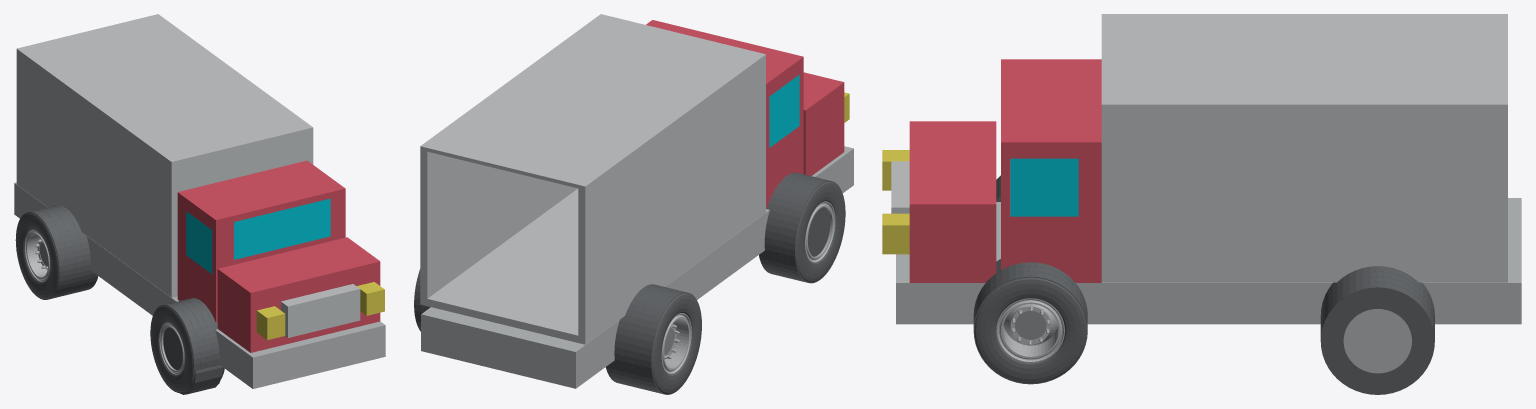
Rendered from Copy of Camion.glb.
3 renders of one model, left to right at view 1: azimuth 30°, elevation 25°; view 2: azimuth 150°, elevation 25°; view 3: azimuth 270°, elevation 25°, orthographic. The views are drawn at different scales.
Parts seen in each view (by area): view 1: Mesh_Mesh_head_geo.001_lambert2SG.001; view 2: Mesh_Mesh_head_geo.001_lambert2SG.001; view 3: Mesh_Mesh_head_geo.001_lambert2SG.001.
Part boxes in pixels (<box>): Mesh_Mesh_head_geo.001_lambert2SG.001: <box>14,14,385,394</box>; Mesh_Mesh_head_geo.001_lambert2SG.001: <box>414,14,853,394</box>; Mesh_Mesh_head_geo.001_lambert2SG.001: <box>882,14,1521,394</box>.
Bounding box in the file's own units: 68 × 65 × 140.
